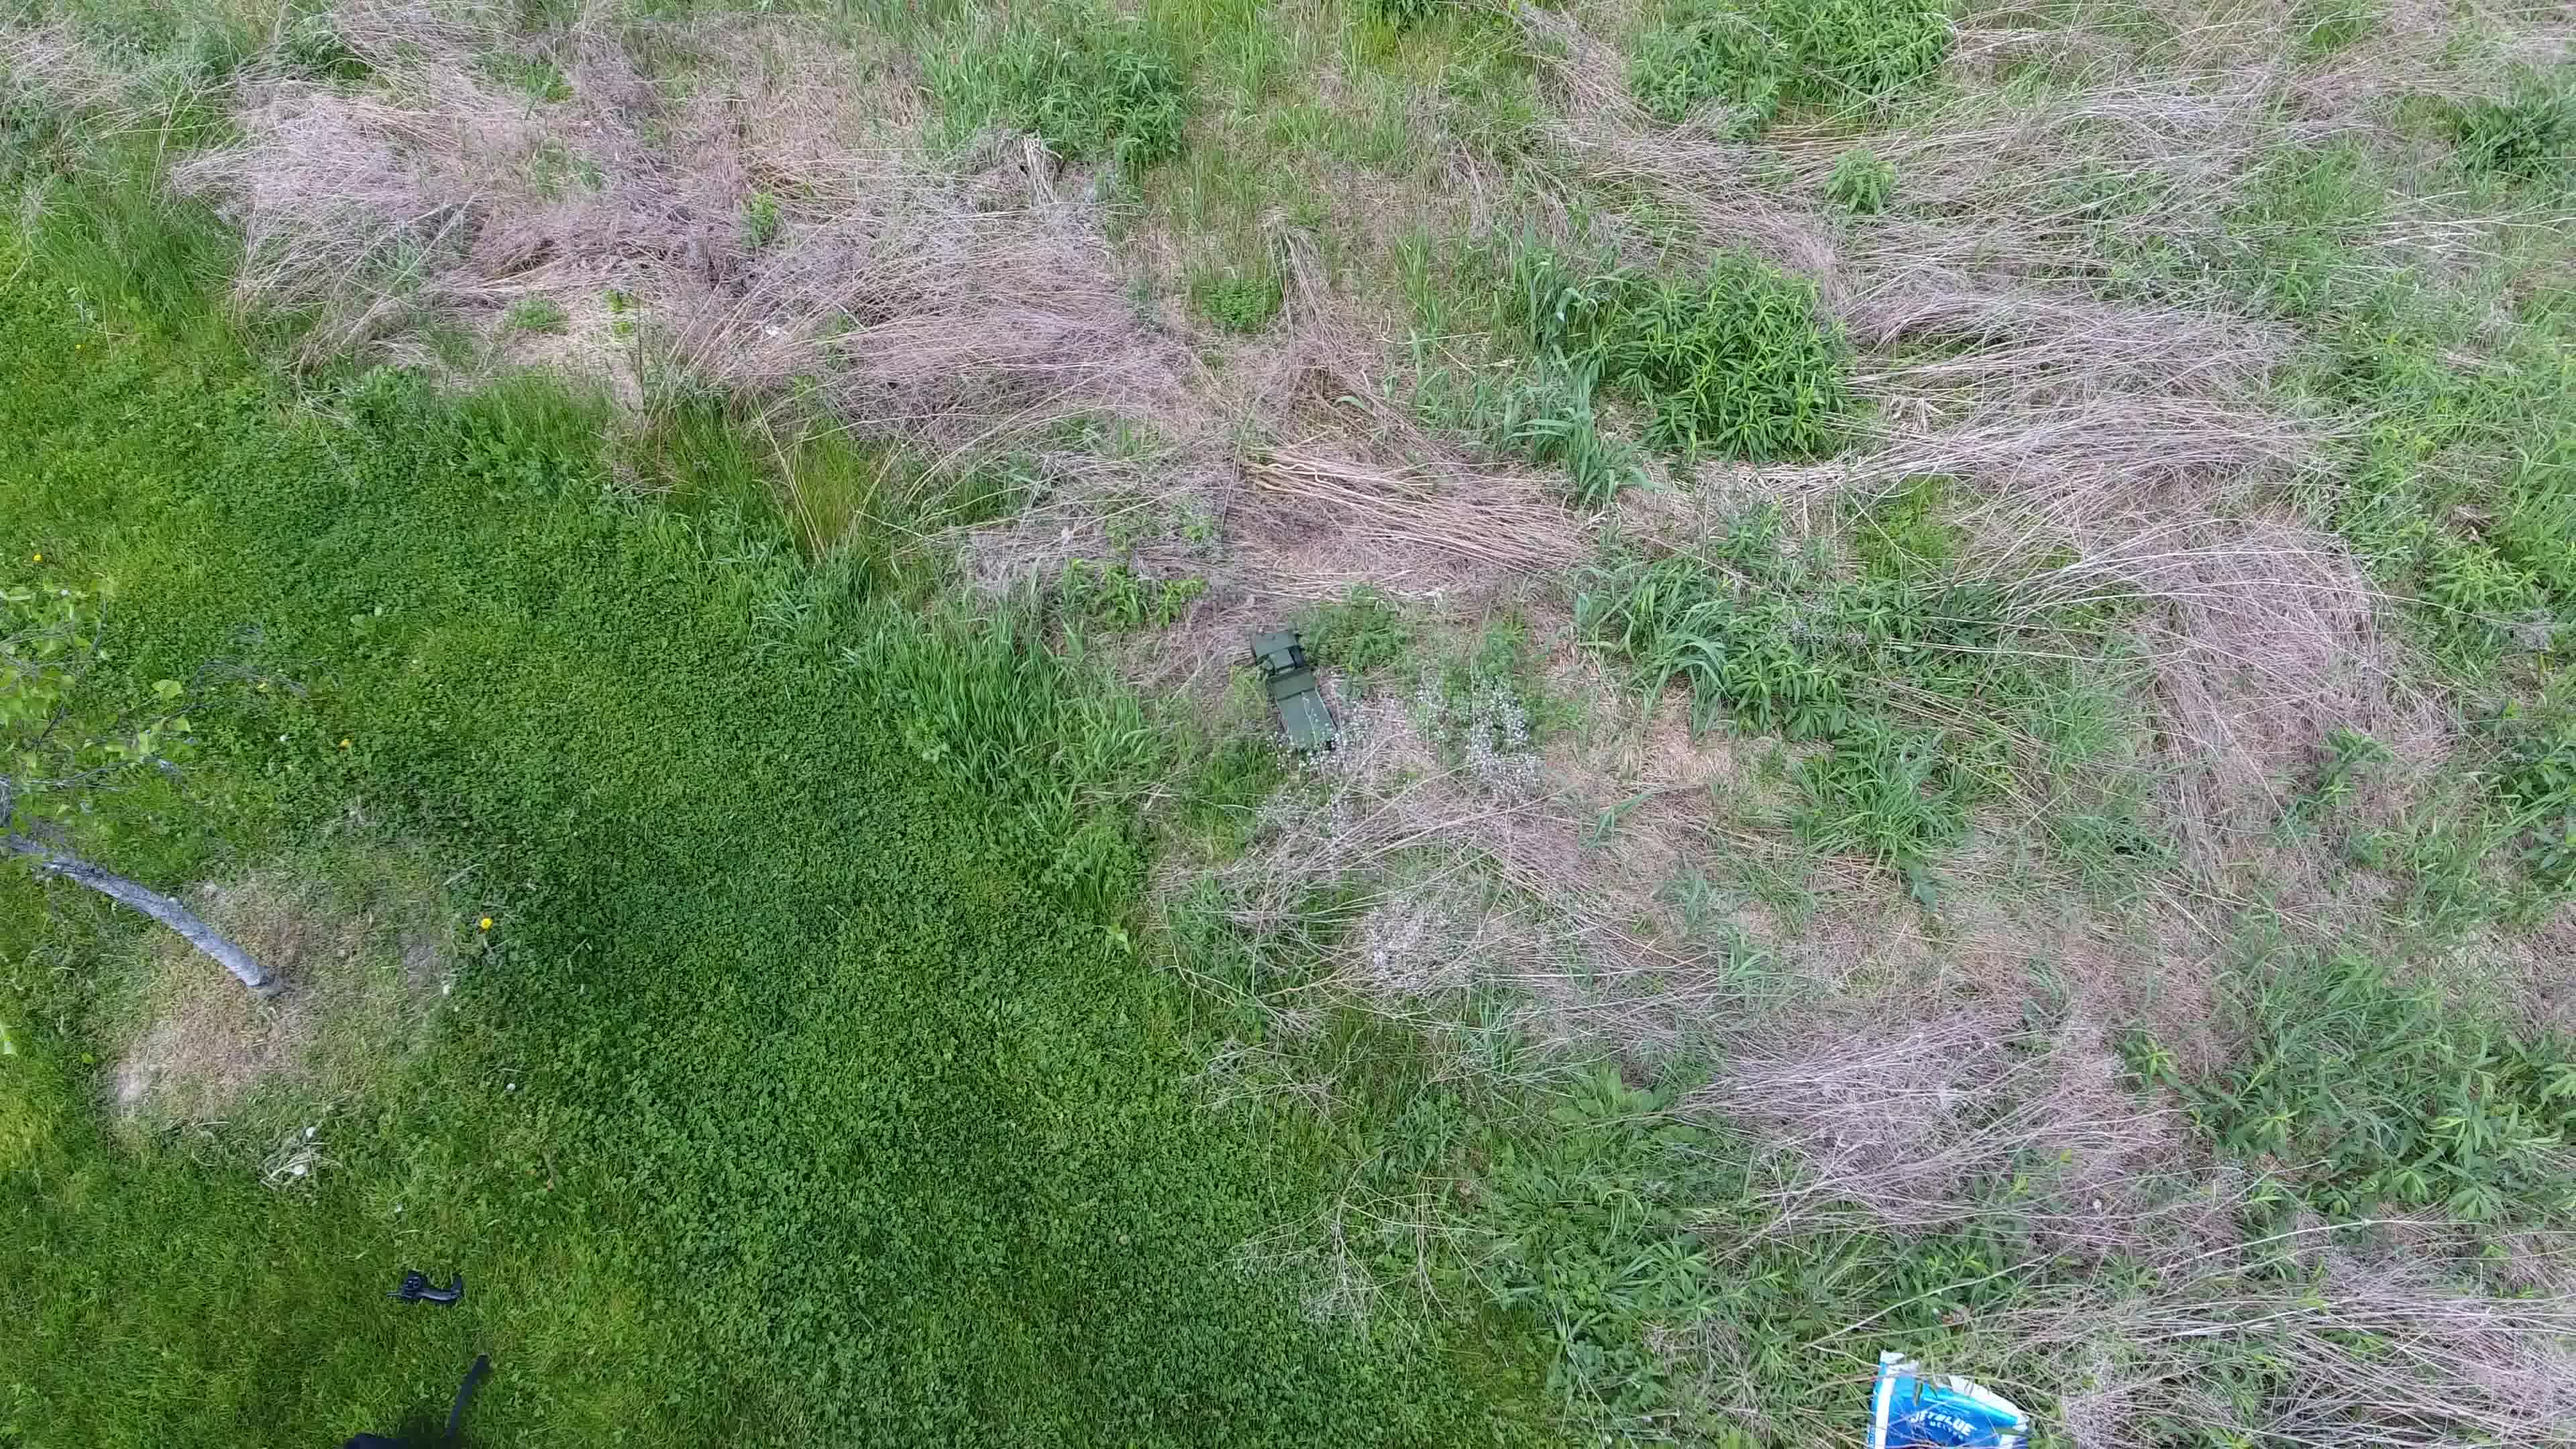transporter9: (1246, 626, 1348, 766)
